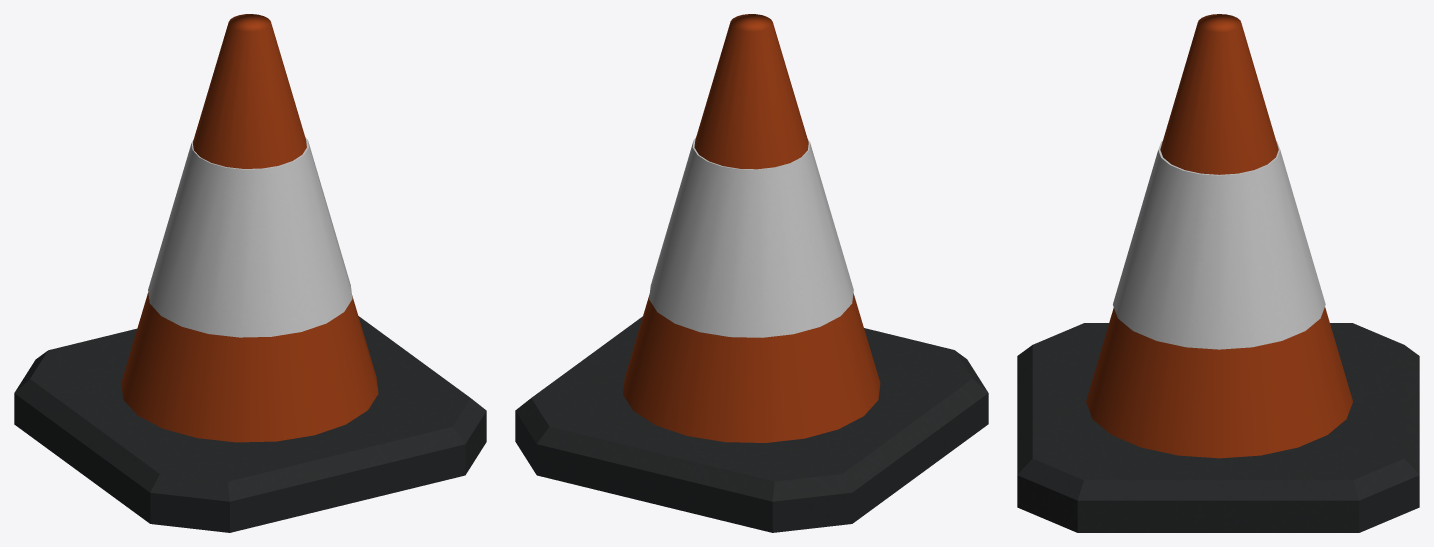
Rendered from traffic cone 1.fbx.
The picture shows the model from 3 angles, left to right: view 1: azimuth 30°, elevation 25°; view 2: azimuth 150°, elevation 25°; view 3: azimuth 270°, elevation 25°; orthographic projection. The views are drawn at different scales.
Visible parts, largest first — view 1: polySurface170; view 2: polySurface170; view 3: polySurface170.
Boxes of the visible parts, x1,y1,x2,y2 form: polySurface170: (14, 14, 486, 532); polySurface170: (515, 14, 988, 532); polySurface170: (1017, 14, 1419, 532).
Bounding box in the file's own units: 50.6 × 58.9 × 50.6.
